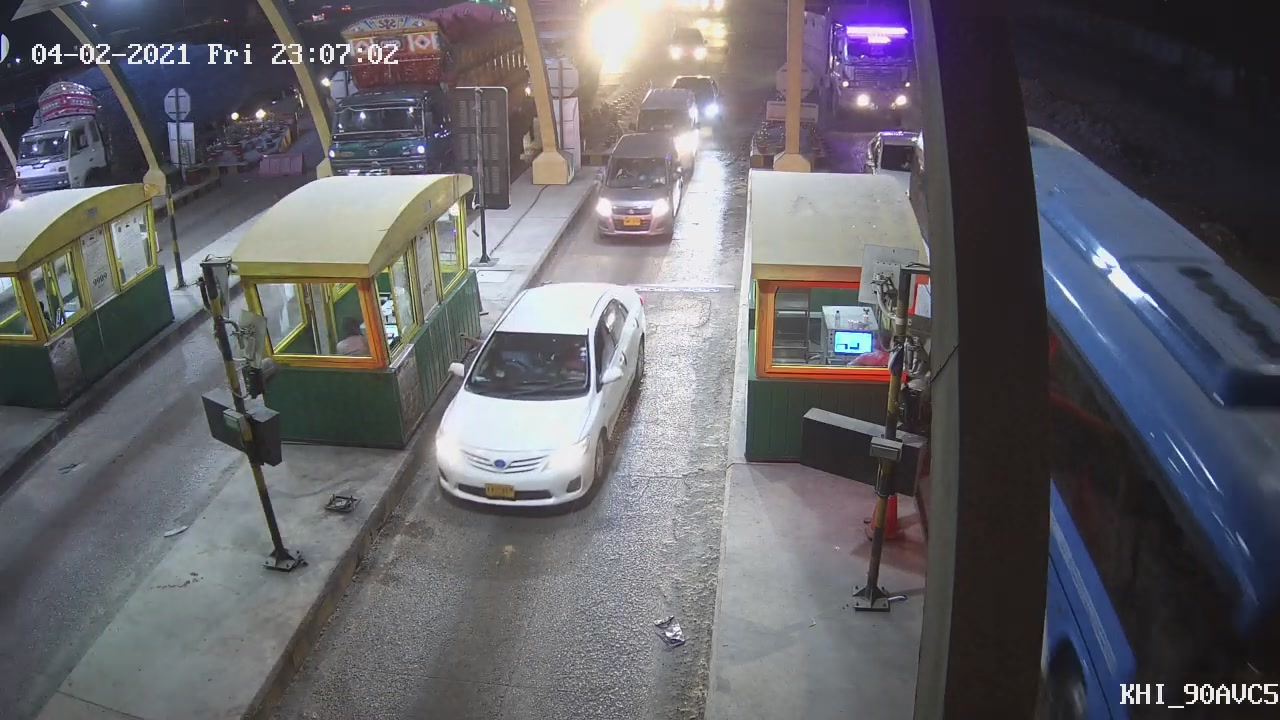F1: (434, 280, 651, 514), (588, 130, 687, 244)
